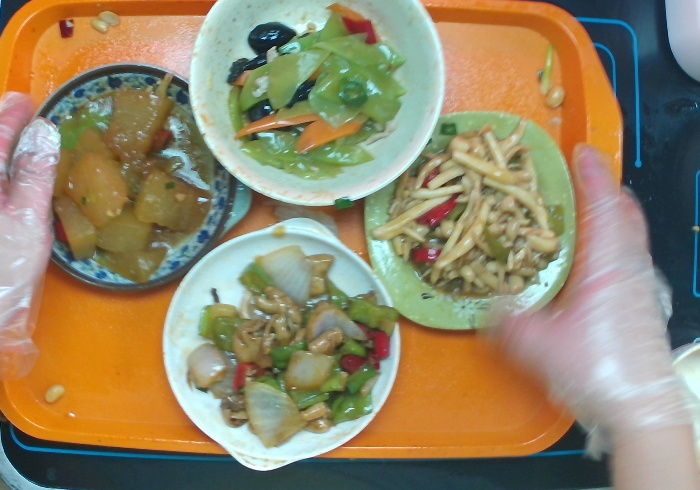NLDX-Bai_Se_Shuang_Er_Die: (159, 215, 405, 475)
NLDX-Bai_Se_Yuan_Wan: (184, 1, 450, 211)
NLDX-Lv_Hua_Fang_Die: (359, 105, 580, 336)
NLDX-Qing_Hua_Shuang_Er_Die: (1, 59, 255, 296)
